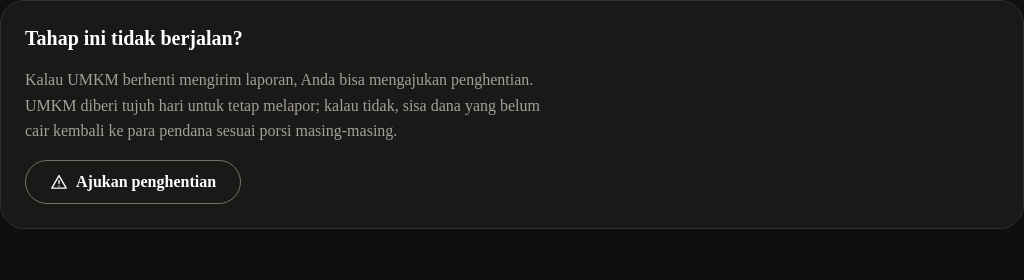
Test: before a termination is requested › shows the server reason when the stage is not overdue yet
Step 1. Click the button "Ajukan penghentian" → (133,182), box [25, 160, 241, 204]
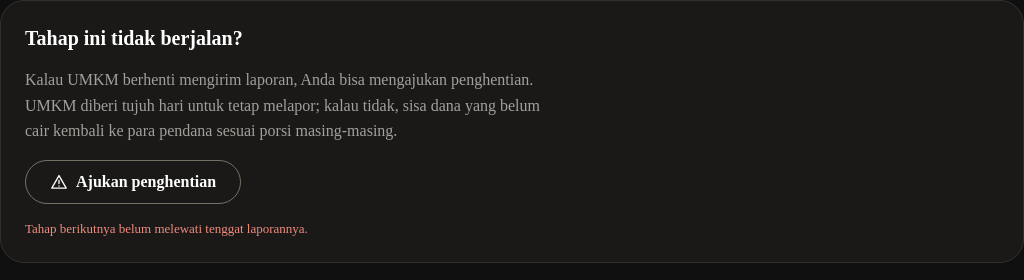
Now the message shows "belum melewati tenggat", box [25, 221, 308, 236]
